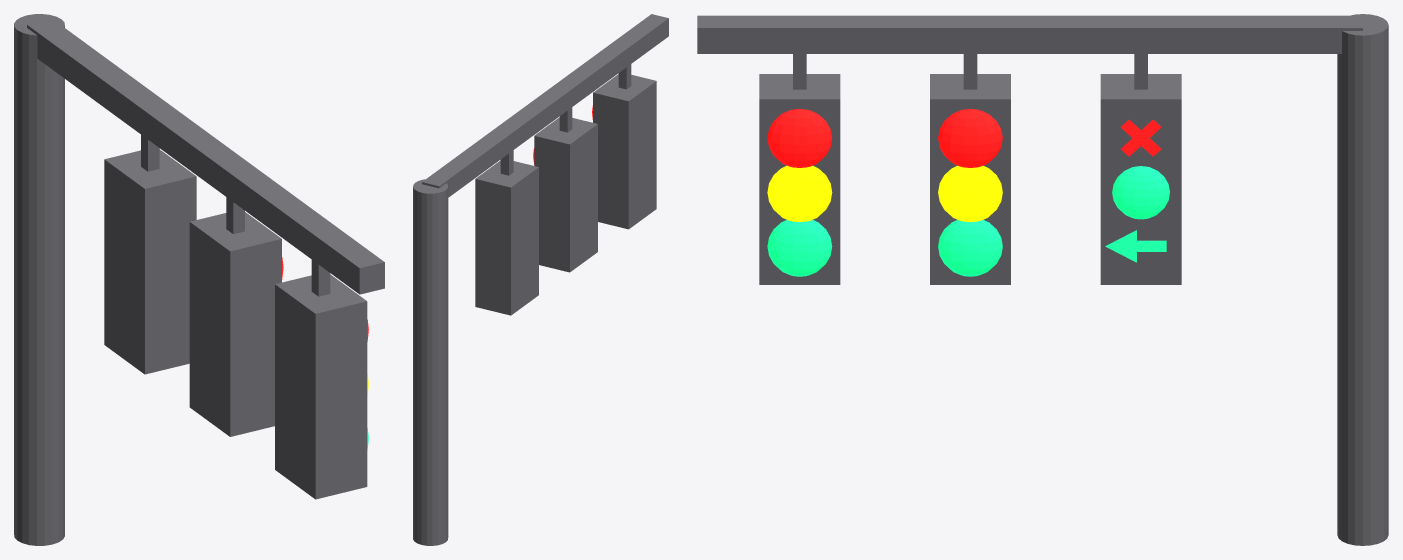
Rendered from traffic_light_lrr.fbx.
3 renders of one model, left to right at view 1: azimuth 30°, elevation 25°; view 2: azimuth 150°, elevation 25°; view 3: azimuth 270°, elevation 25°, orthographic. The views are drawn at different scales.
Parts seen in each view (by area): view 1: Semaforo_cuerpo; view 2: Semaforo_cuerpo; view 3: Semaforo_cuerpo, lamp_red.001, lamp_red, lamp_green.001, lamp_green.002, lamp_yellow.001, lamp_yellow, lamp_green, lamp_green_arr.
Boxes of the visible parts, left/top/right/bottom form: Semaforo_cuerpo: left=14, top=14, right=384, bottom=545; Semaforo_cuerpo: left=413, top=14, right=668, bottom=545; Semaforo_cuerpo: left=697, top=14, right=1388, bottom=545; lamp_red.001: left=767, top=108, right=832, bottom=167; lamp_red: left=938, top=108, right=1002, bottom=167; lamp_green.001: left=938, top=220, right=1002, bottom=276; lamp_green.002: left=767, top=220, right=832, bottom=276; lamp_yellow.001: left=767, top=165, right=832, bottom=221; lamp_yellow: left=938, top=165, right=1002, bottom=221; lamp_green: left=1112, top=166, right=1169, bottom=219; lamp_green_arr: left=1105, top=230, right=1166, bottom=262.
Size of the model in its own units: 89.52 by 664 by 810.
